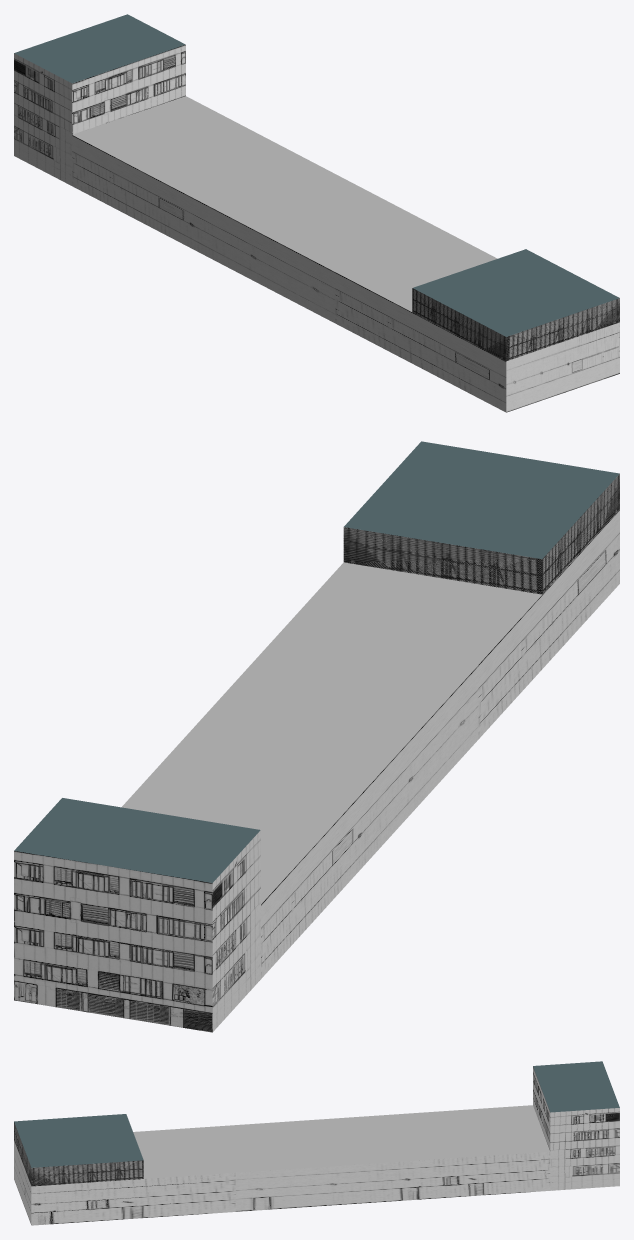
Rendered from 1Georg-Schumann-Str7a.gltf.
The picture shows the model from 3 angles, top to bottom: view 1: azimuth 30°, elevation 25°; view 2: azimuth 150°, elevation 25°; view 3: azimuth 270°, elevation 25°; orthographic projection. The views are drawn at different scales.
Visible parts, largest first — view 1: Dach.1; view 2: Dach.1; view 3: Dach.1.
Part boxes in pixels (x1=…): Dach.1: x1=14, y1=14, x2=619, y2=412; Dach.1: x1=14, y1=441, x2=619, y2=1032; Dach.1: x1=14, y1=1061, x2=619, y2=1225.
Bounding box in the file's own units: 44.73 × 19 × 133.
8 materials, 6 textured.
